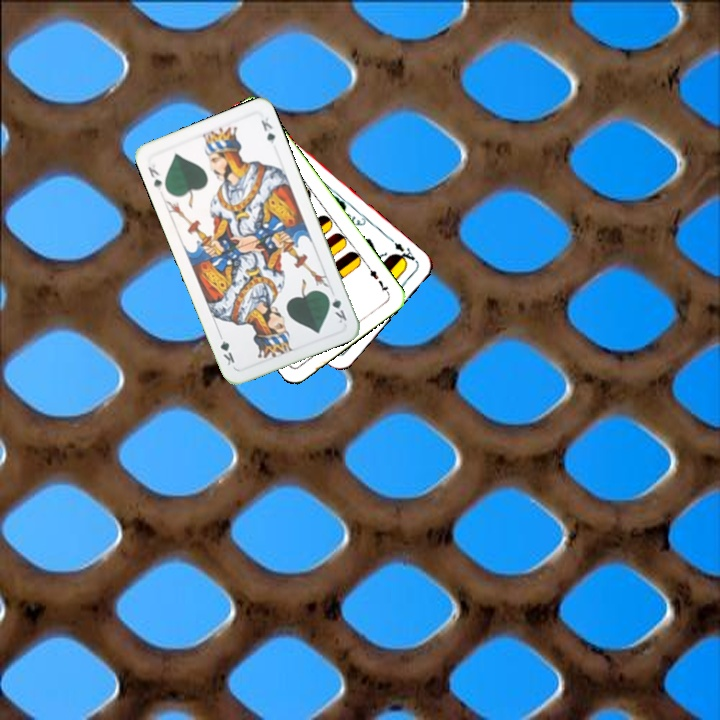E7: (363, 262, 392, 297)
EA: (390, 238, 419, 267)
GK: (322, 287, 349, 326), (144, 157, 165, 193)
